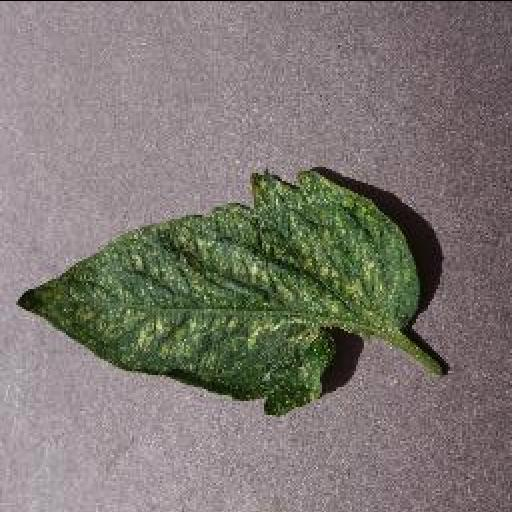disease_tomato: (14, 170, 416, 418)
